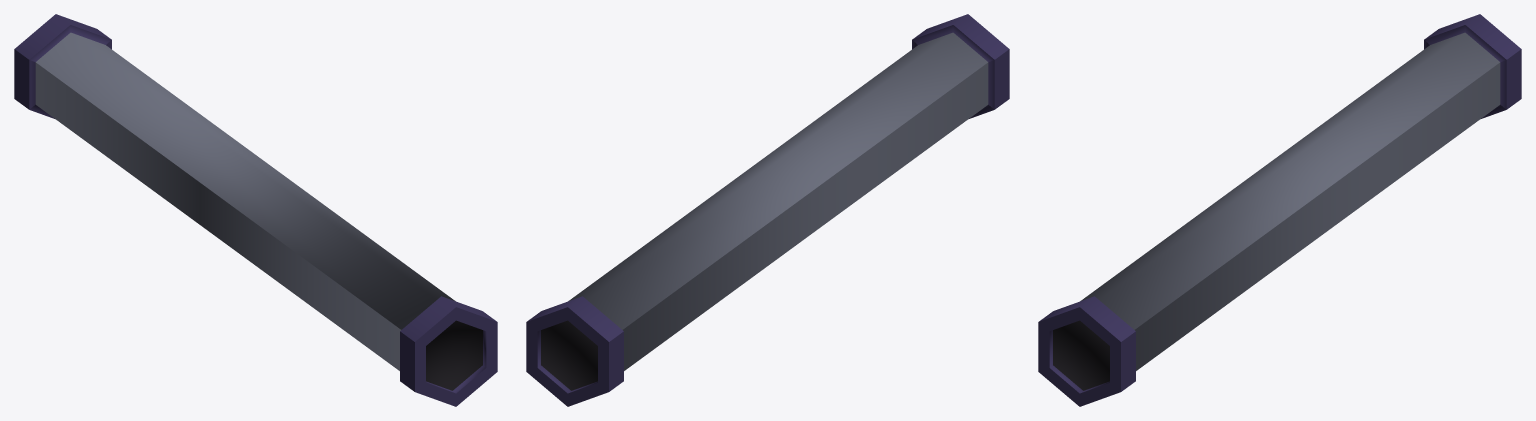
The model's file is Pipe.fbx.
The picture shows the model from 3 angles, left to right: view 1: azimuth 30°, elevation 25°; view 2: azimuth 150°, elevation 25°; view 3: azimuth 330°, elevation 25°; orthographic projection.
Parts seen in each view (by area): view 1: Pipe; view 2: Pipe; view 3: Pipe.
Boxes of the visible parts, x1,y1,x2,y2 form: Pipe: (14,14,497,406); Pipe: (526,14,1009,406); Pipe: (1038,14,1521,406).
Size of the model in its own units: 0.0861 by 0.0995 by 0.7223.
